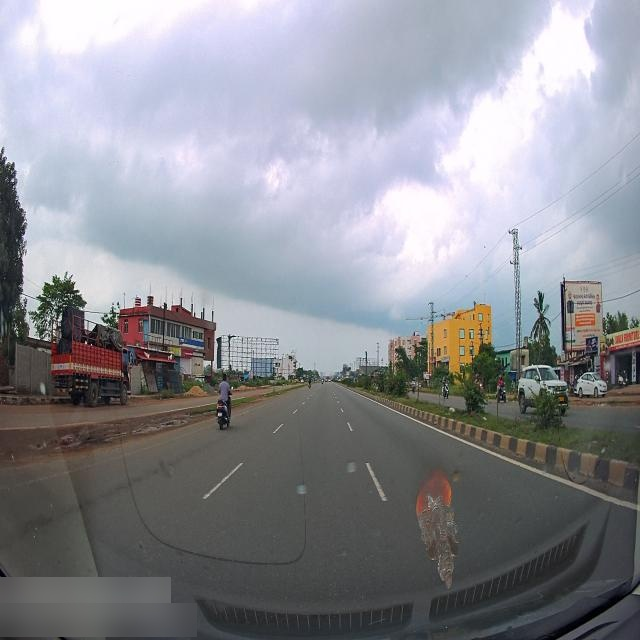pothole: (36, 426, 96, 458), (128, 410, 189, 440)
